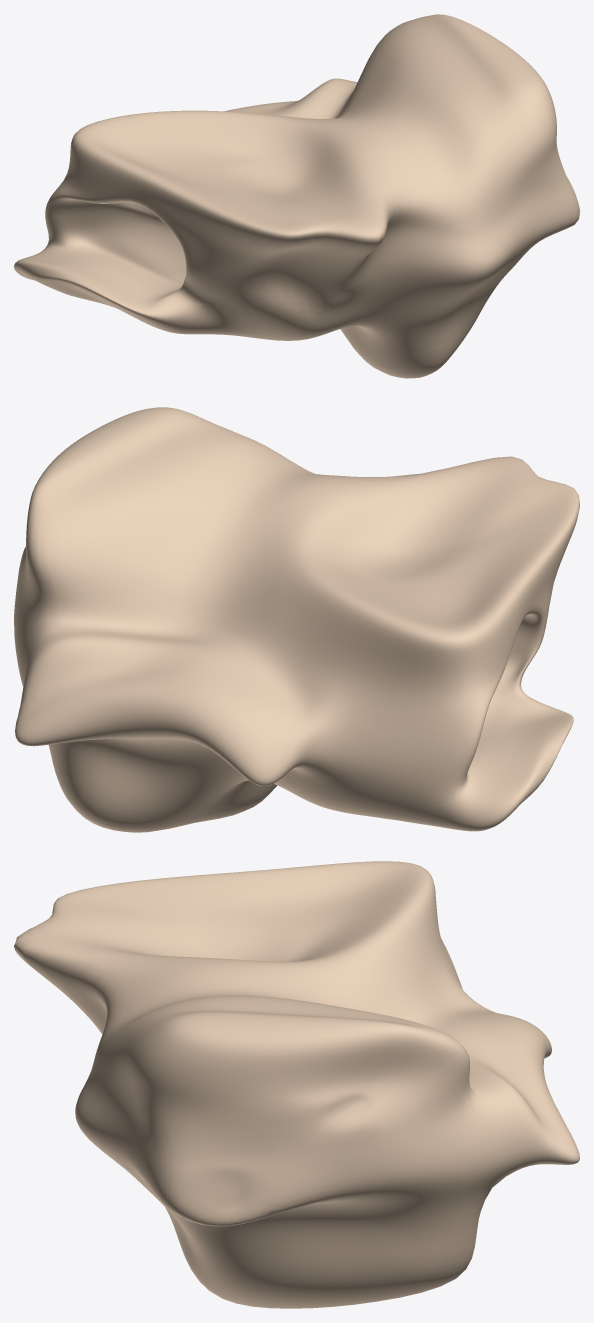
File: Island2-1-main.fbx
The picture shows the model from 3 angles, top to bottom: view 1: azimuth 30°, elevation 25°; view 2: azimuth 150°, elevation 25°; view 3: azimuth 270°, elevation 25°; orthographic projection. The views are drawn at different scales.
Parts seen in each view (by area): view 1: pCube1; view 2: pCube1; view 3: pCube1.
Part boxes in pixels (bbox=[...]): pCube1: bbox=[14, 14, 579, 378]; pCube1: bbox=[14, 407, 579, 832]; pCube1: bbox=[14, 861, 579, 1308].
Bounding box in the file's own units: 867 × 518 × 789.
